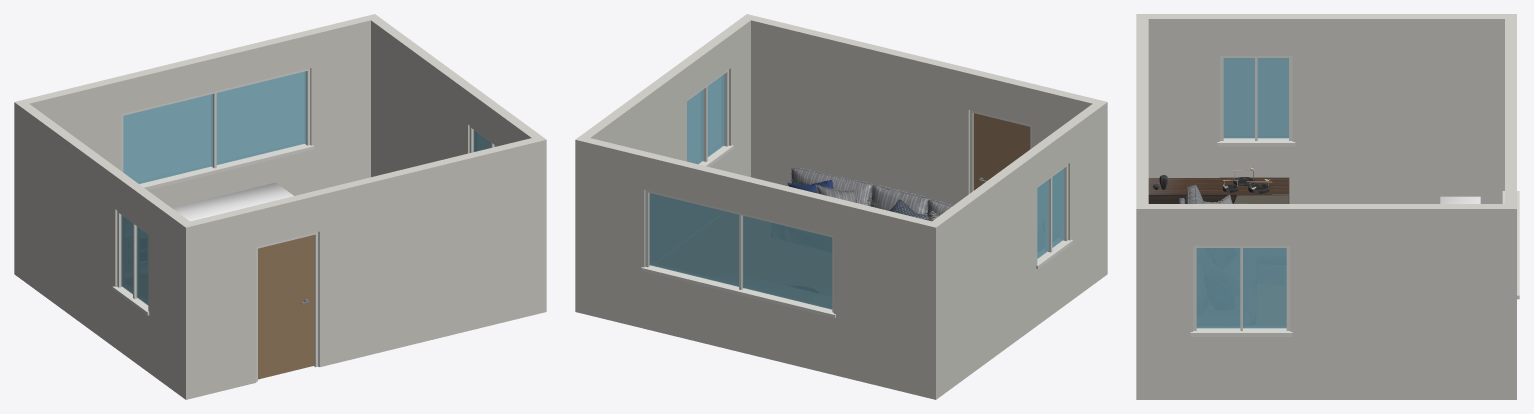
File: atiss.glb
3 renders of one model, left to right at view 1: azimuth 30°, elevation 25°; view 2: azimuth 150°, elevation 25°; view 3: azimuth 270°, elevation 25°, orthographic. The views are drawn at different scales.
Visible parts, largest first — view 1: wall|scenesmith_068__R00|0, wall|scenesmith_068__R00|2, wall|scenesmith_068__R00|1, wall|scenesmith_068__R00|3, wall|scenesmith_068__R00|1 Window 0 | glazing, wall|scenesmith_068__R00|0 Door 0 | wood leaf, wall|scenesmith_068__R00|1 Window 0 | jamb, raw_model.001, wall|scenesmith_068__R00|2 Window 0 | glazing, wall|scenesmith_068__R00|2 Window 0 | jamb, wall|scenesmith_068__R00|0 Door 0 | jamb; view 2: wall|scenesmith_068__R00|1, wall|scenesmith_068__R00|0, wall|scenesmith_068__R00|2, wall|scenesmith_068__R00|1 Window 0 | glazing, wall|scenesmith_068__R00|3, raw_model, wall|scenesmith_068__R00|1 Window 0 | jamb, wall|scenesmith_068__R00|0 Door 0 | wood leaf, wall|scenesmith_068__R00|3 Window 0 | glazing, wall|scenesmith_068__R00|2 Window 0 | glazing, wall|scenesmith_068__R00|2 Window 0 | jamb, wall|scenesmith_068__R00|3 Window 0 | jamb (+1 smaller); view 3: wall|scenesmith_068__R00|3, wall|scenesmith_068__R00|2, wall|scenesmith_068__R00|3 Window 0 | glazing, wall|scenesmith_068__R00|2 Window 0 | glazing, wall|scenesmith_068__R00|0, wall|scenesmith_068__R00|1, raw_model.002, wall|scenesmith_068__R00|3 Window 0 | jamb, wall|scenesmith_068__R00|2 Window 0 | jamb, raw_model, wall|scenesmith_068__R00|1 Window 0 | jamb.
Part boxes in pixels (box(x1,y1,x2,y2)): wall|scenesmith_068__R00|0: box(180, 138, 537, 399); wall|scenesmith_068__R00|2: box(14, 99, 195, 399); wall|scenesmith_068__R00|1: box(14, 14, 379, 277); wall|scenesmith_068__R00|3: box(371, 18, 546, 313); wall|scenesmith_068__R00|1 Window 0 | glazing: box(123, 71, 306, 183); wall|scenesmith_068__R00|0 Door 0 | wood leaf: box(258, 235, 314, 379); wall|scenesmith_068__R00|1 Window 0 | jamb: box(121, 68, 314, 189); raw_model.001: box(172, 182, 293, 221); wall|scenesmith_068__R00|2 Window 0 | glazing: box(121, 215, 148, 305); wall|scenesmith_068__R00|2 Window 0 | jamb: box(112, 211, 149, 315); wall|scenesmith_068__R00|0 Door 0 | jamb: box(256, 232, 318, 381); wall|scenesmith_068__R00|1: box(575, 136, 941, 399); wall|scenesmith_068__R00|0: box(751, 16, 1107, 277); wall|scenesmith_068__R00|2: box(927, 99, 1107, 395); wall|scenesmith_068__R00|1 Window 0 | glazing: box(649, 193, 832, 309); wall|scenesmith_068__R00|3: box(581, 14, 755, 176); raw_model: box(787, 166, 954, 221); wall|scenesmith_068__R00|1 Window 0 | jamb: box(641, 190, 835, 318); wall|scenesmith_068__R00|0 Door 0 | wood leaf: box(973, 113, 1030, 190); wall|scenesmith_068__R00|3 Window 0 | glazing: box(687, 74, 724, 164); wall|scenesmith_068__R00|2 Window 0 | glazing: box(1037, 168, 1064, 258); wall|scenesmith_068__R00|2 Window 0 | jamb: box(1036, 164, 1072, 268); wall|scenesmith_068__R00|3 Window 0 | jamb: box(687, 70, 733, 166); wall|scenesmith_068__R00|3: box(1136, 204, 1504, 399); wall|scenesmith_068__R00|2: box(1136, 14, 1516, 203); wall|scenesmith_068__R00|3 Window 0 | glazing: box(1196, 248, 1286, 328); wall|scenesmith_068__R00|2 Window 0 | glazing: box(1223, 58, 1288, 138); wall|scenesmith_068__R00|0: box(1136, 19, 1148, 399); wall|scenesmith_068__R00|1: box(1505, 19, 1516, 399); raw_model.002: box(1148, 167, 1289, 203); wall|scenesmith_068__R00|3 Window 0 | jamb: box(1190, 245, 1292, 336); wall|scenesmith_068__R00|2 Window 0 | jamb: box(1217, 56, 1295, 146); raw_model: box(1179, 184, 1252, 203); wall|scenesmith_068__R00|1 Window 0 | jamb: box(1502, 191, 1519, 299).
Size of the model in its own units: 5.76 by 2.62 by 4.73.
10 materials, 4 textured.
